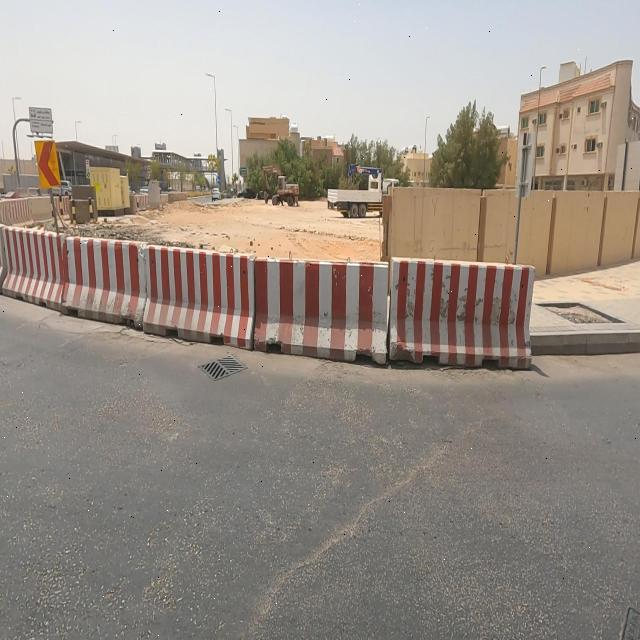Graffiti: (428, 194, 440, 218)
